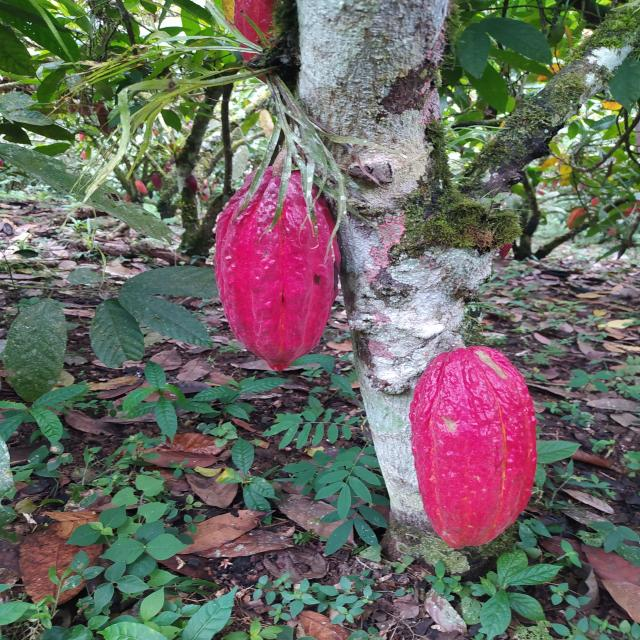Sana: (410, 346, 538, 547), (214, 167, 338, 373)
